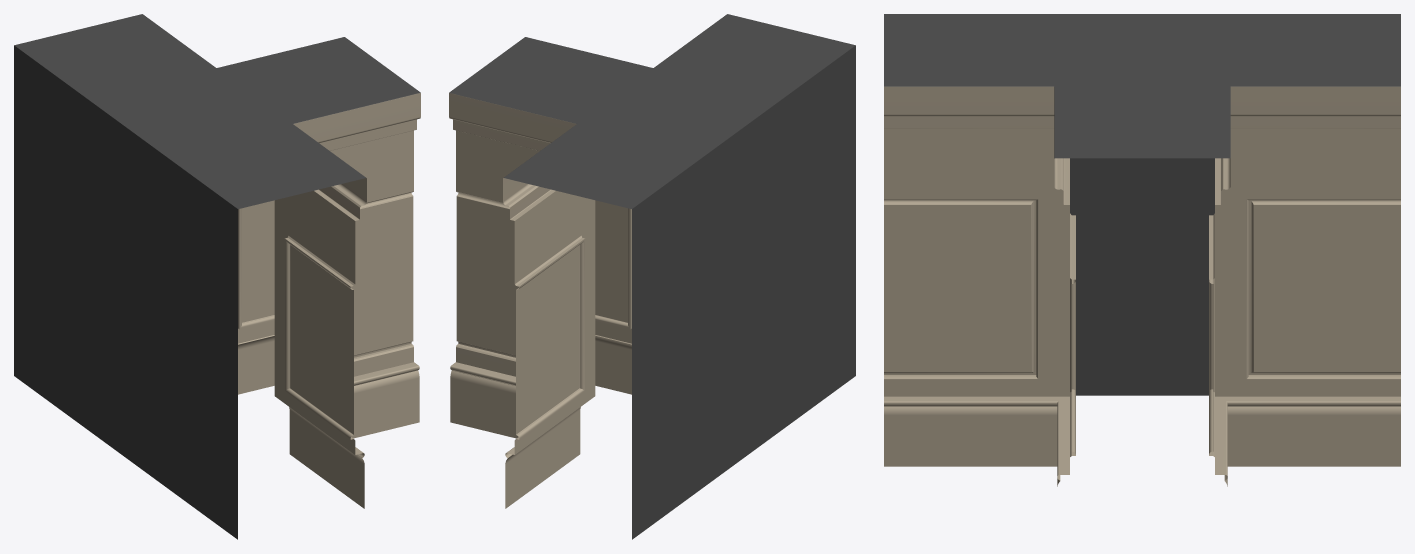
Rendered from Wallset_02.1.01.fbx.
3 views of the same model, side by side, from view 1: azimuth 30°, elevation 25°; view 2: azimuth 150°, elevation 25°; view 3: azimuth 270°, elevation 25° (orthographic). The views are drawn at different scales.
Visible parts, largest first — view 1: polySurface16; view 2: polySurface16; view 3: polySurface16.
Part boxes in pixels (left/top/right/bottom): polySurface16: left=14, top=14, right=420, bottom=539; polySurface16: left=449, top=14, right=855, bottom=539; polySurface16: left=884, top=14, right=1400, bottom=486.
Size of the model in its own units: 197 by 243 by 298.
